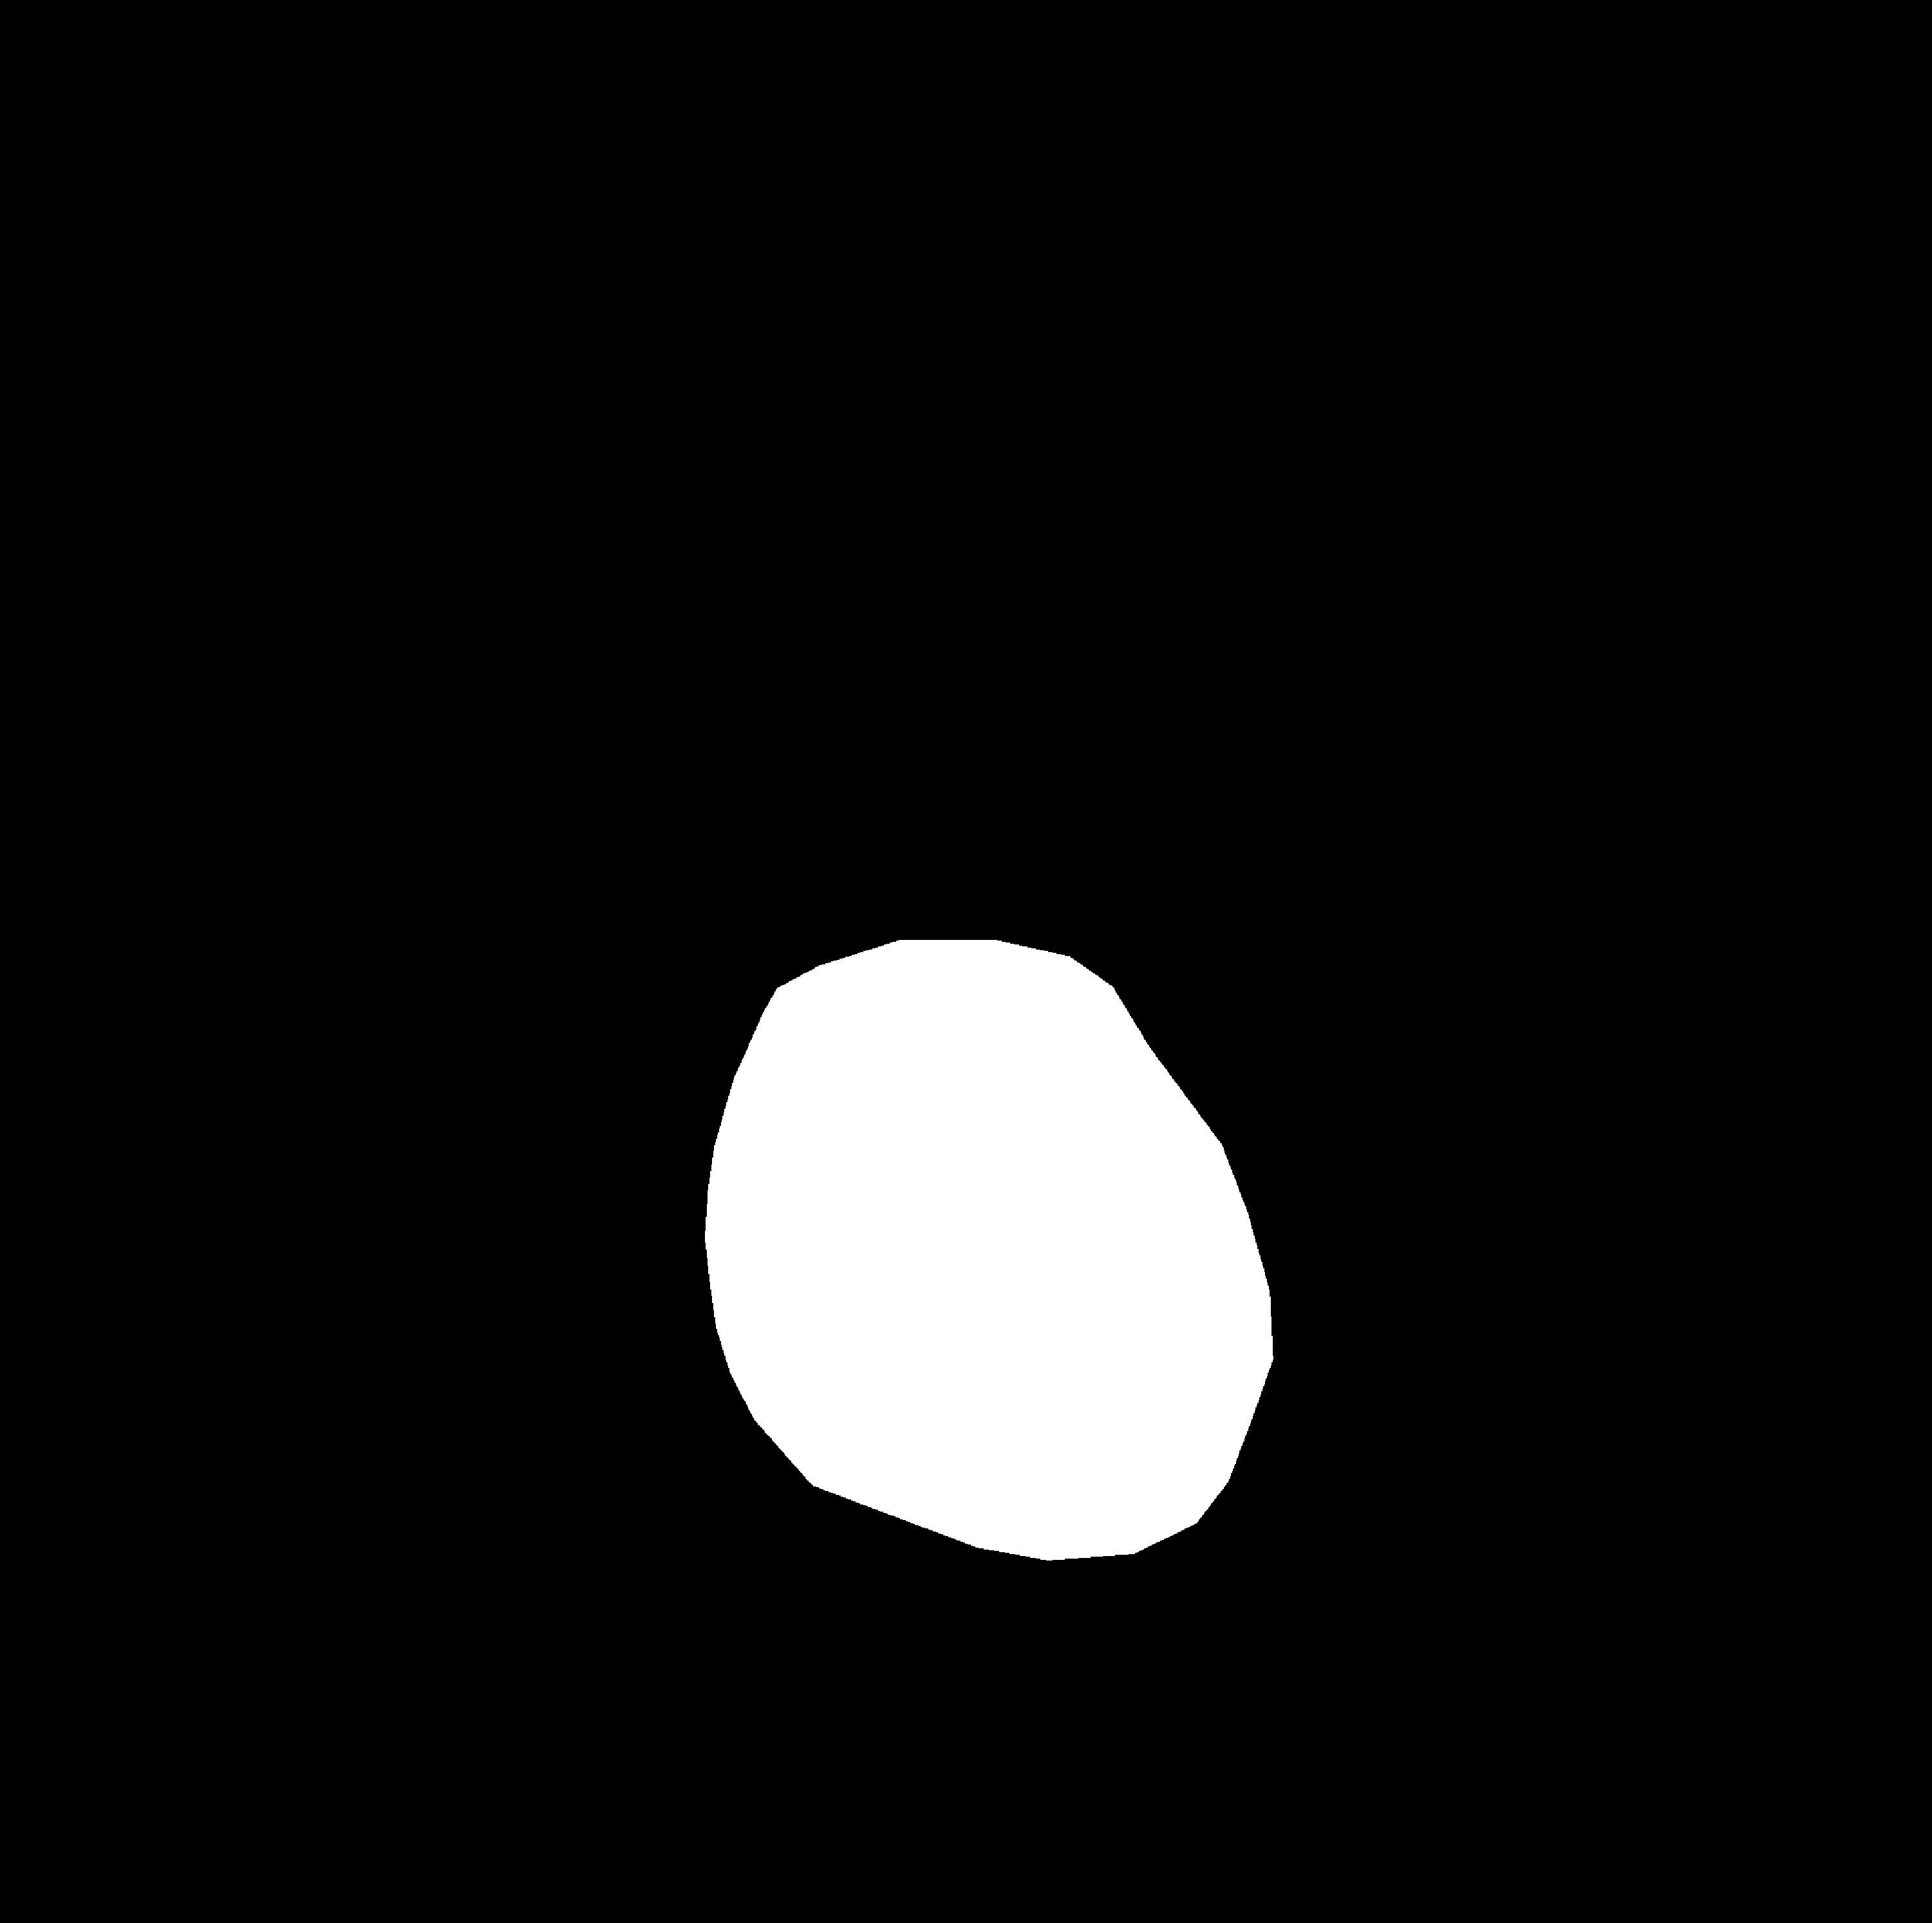heart: (704, 988, 1265, 1550)
left_lung: (252, 349, 877, 1691)
right_lung: (1034, 365, 1606, 1749)
